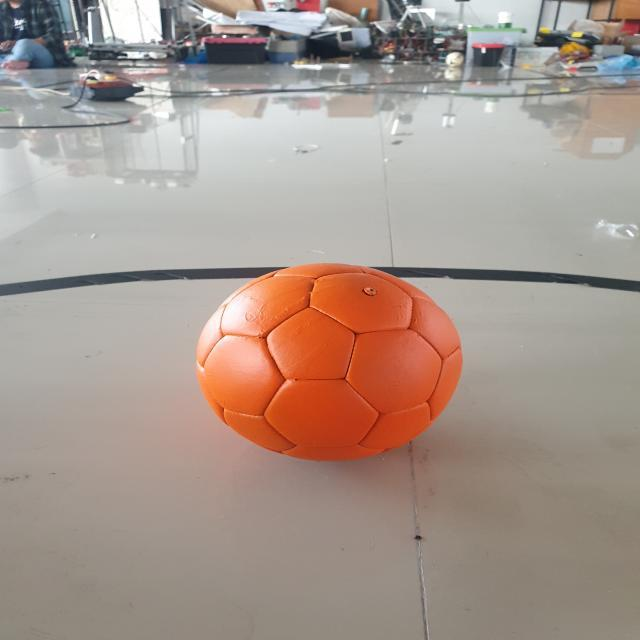bola: (190, 256, 474, 468)
